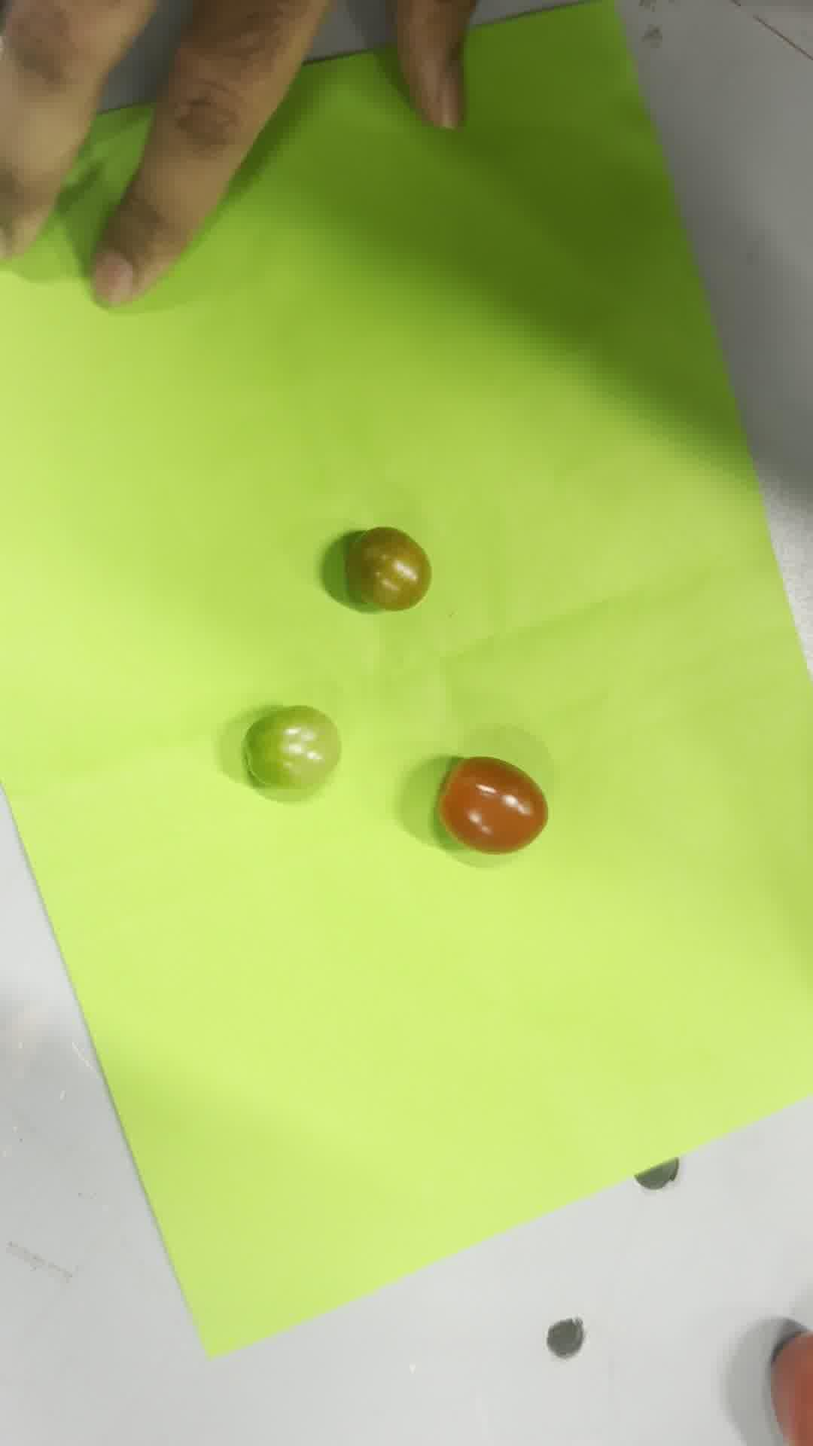green_cherry_tomato: (244, 705, 340, 789)
red_cherry_tomato: (437, 756, 548, 855)
yellow_cherry_tomato: (346, 527, 431, 611)
